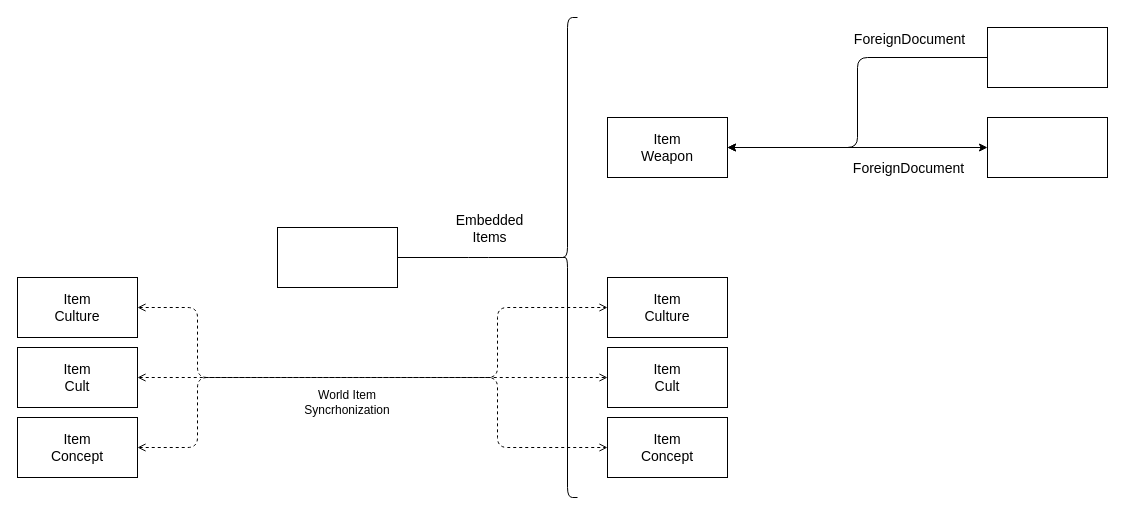
Some shapes in this 1125 by 515 pixel diagram are drawn without their labels. Here are the shapes that lost their labels. From the top down, the centre of each, then its label:
pixel 1047 57: Item Ammo
pixel 1047 147: Item Modification
pixel 337 257: Actor
